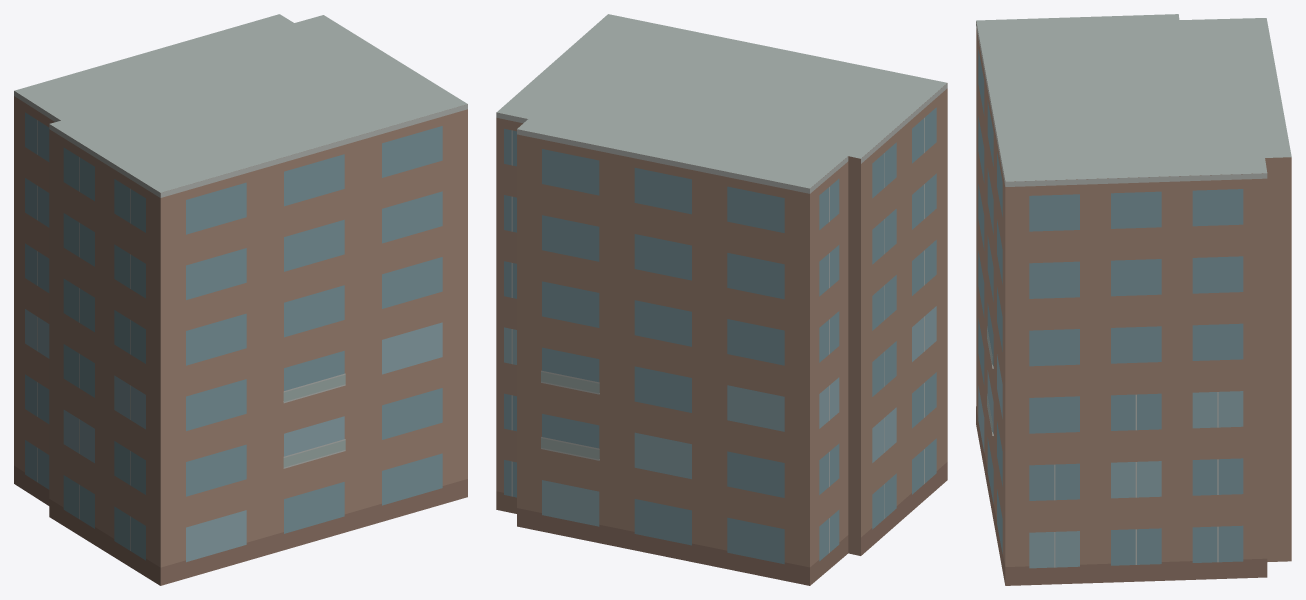
Rendered from survey-upis-32739789.glb.
3 renders of one model, left to right at view 1: azimuth 30°, elevation 25°; view 2: azimuth 150°, elevation 25°; view 3: azimuth 270°, elevation 25°, orthographic. The views are drawn at different scales.
Visible parts, largest first — view 1: survey-upis-32739789.tmp; view 2: survey-upis-32739789.tmp; view 3: survey-upis-32739789.tmp.
Boxes of the visible parts, left/top/right/bottom form: survey-upis-32739789.tmp: left=14, top=14, right=467, bottom=585; survey-upis-32739789.tmp: left=496, top=14, right=947, bottom=585; survey-upis-32739789.tmp: left=976, top=14, right=1291, bottom=585.
Bounding box in the file's own units: 16.3 × 18.3 × 12.96.
